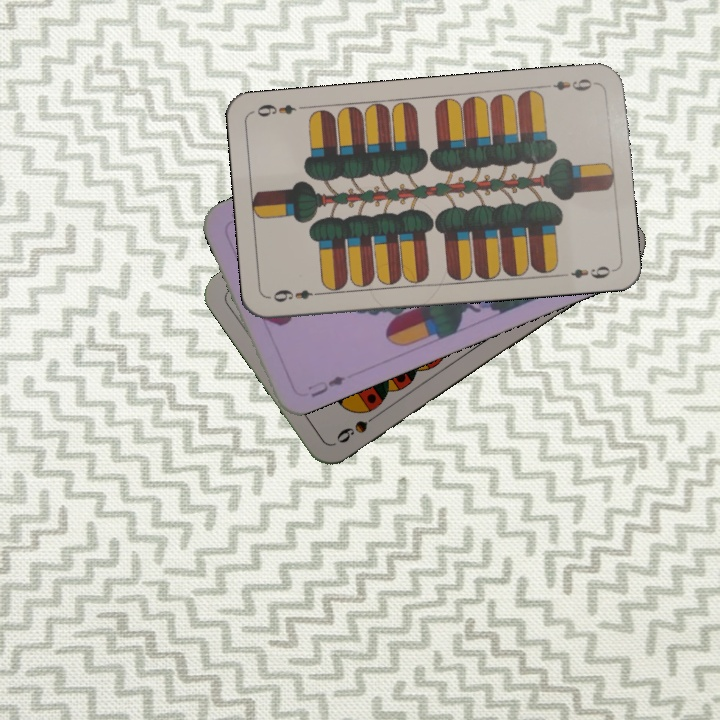E9: (540, 74, 599, 94), (269, 285, 325, 305)
EU: (303, 371, 348, 400)
S9: (332, 408, 384, 446)
